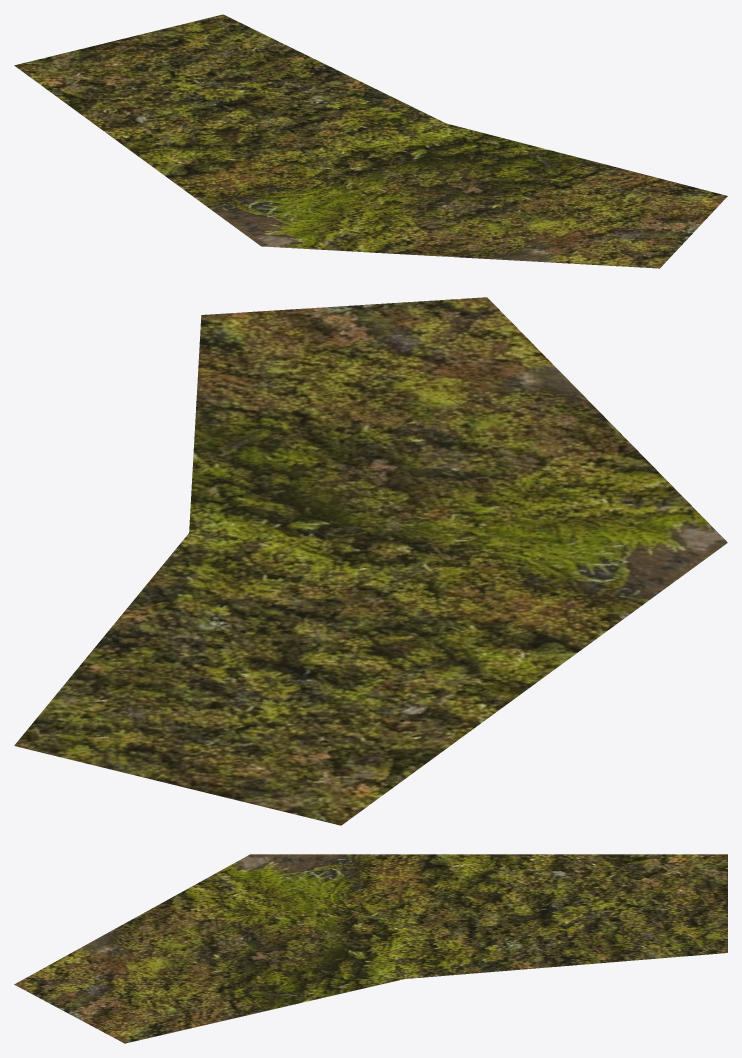
The model's file is moss_float01.dae.
3 renders of one model, top to bottom at view 1: azimuth 30°, elevation 25°; view 2: azimuth 150°, elevation 25°; view 3: azimuth 270°, elevation 25°, orthographic. The views are drawn at different scales.
Parts seen in each view (by area): view 1: 01; view 2: 01; view 3: 01.
Boxes of the visible parts, x1=… form: 01: x1=14, y1=14, x2=727, y2=268; 01: x1=14, y1=297, x2=727, y2=825; 01: x1=14, y1=854, x2=727, y2=1043.
Bounding box in the file's own units: 1.36 × 0 × 2.17.
